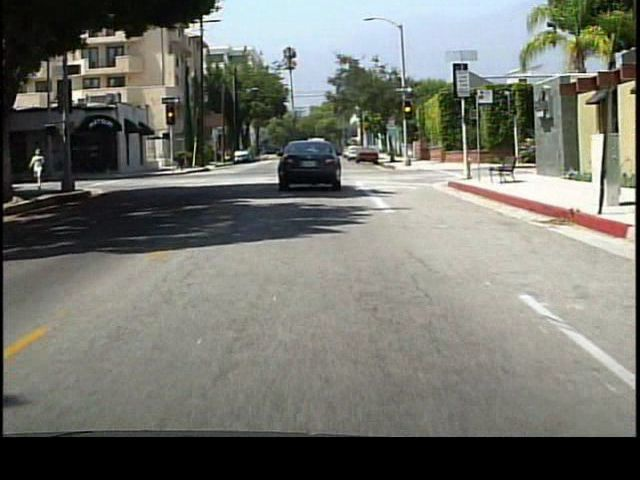person: (32, 145, 51, 191)
